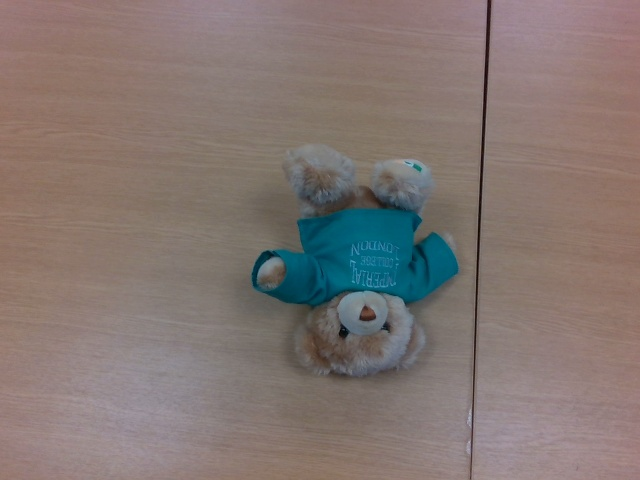teddy: (251, 144, 462, 378)
